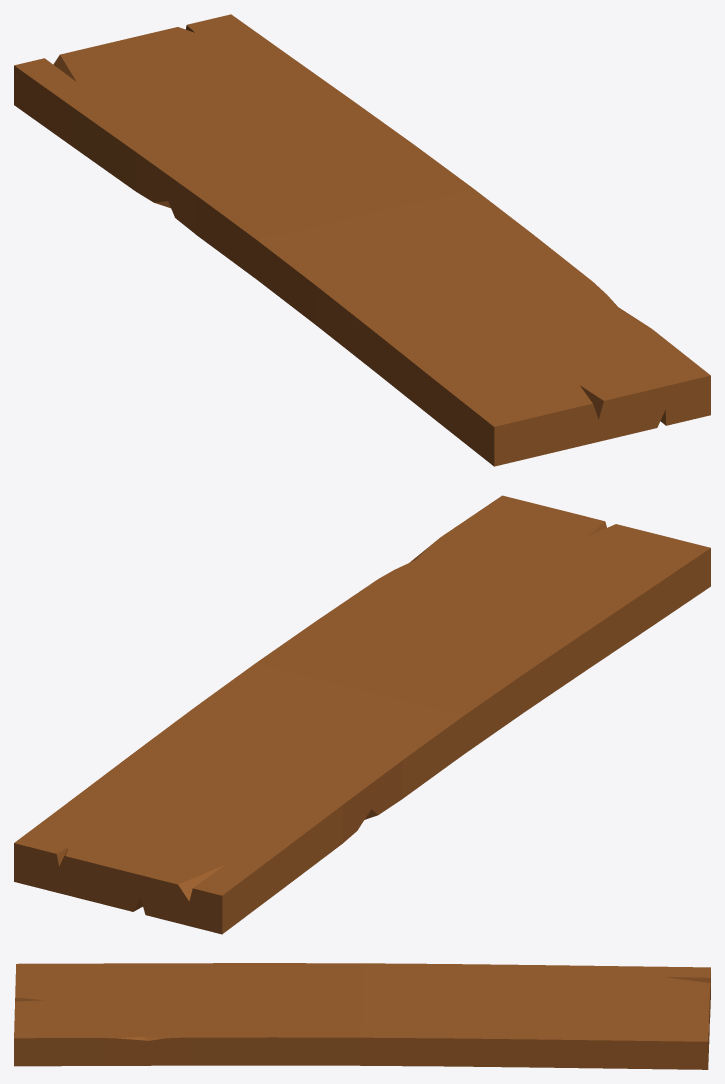
The model's file is plank.fbx.
3 views of the same model, one above another, from view 1: azimuth 30°, elevation 25°; view 2: azimuth 150°, elevation 25°; view 3: azimuth 270°, elevation 25° (orthographic). The views are drawn at different scales.
Visible parts, largest first — view 1: plank; view 2: plank; view 3: plank.
Boxes of the visible parts, <box> form: plank: <box>14,14,710,466</box>; plank: <box>14,495,710,934</box>; plank: <box>14,963,710,1069</box>.
Size of the model in its own units: 0.9933 by 0.1875 by 3.75.
